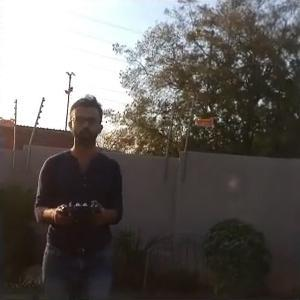follow: (28, 84, 125, 298)
